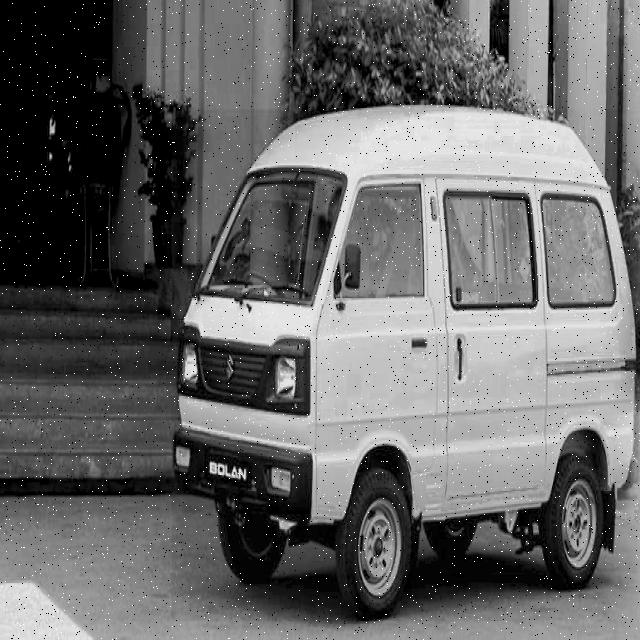LCV: (171, 110, 638, 622)
